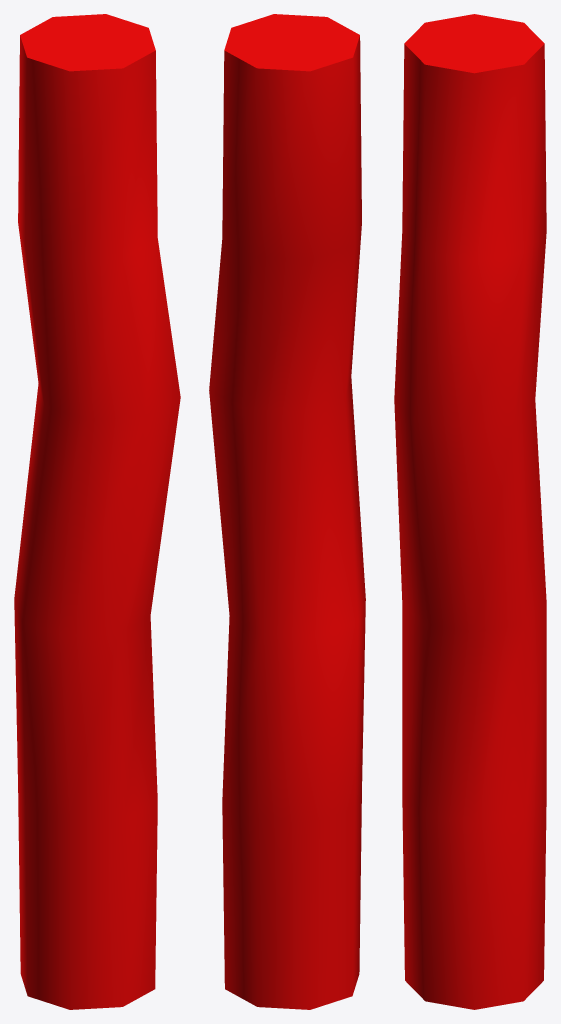
File: Stokkie.obj
3 views of the same model, side by side, from view 1: azimuth 30°, elevation 25°; view 2: azimuth 150°, elevation 25°; view 3: azimuth 270°, elevation 25° (orthographic).
Visible parts, largest first — view 1: Stokkie; view 2: Stokkie; view 3: Stokkie.
Boxes of the visible parts, x1,y1,x2,y2 form: Stokkie: (14,14,180,1009); Stokkie: (209,14,365,1009); Stokkie: (394,14,546,1009).
Bounding box in the file's own units: 15.19 × 92.2 × 13.59.
